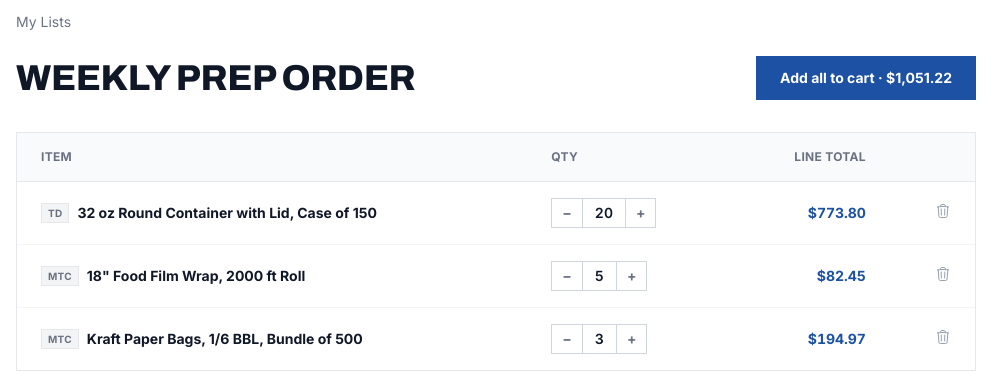
Test: ListDetailPage — known list › increases and decreases an item's quantity independently of the others
This screenshot has width=993, height=388.
Click the button named "Increase" at x=641, y=213, box [626,199,656,227]
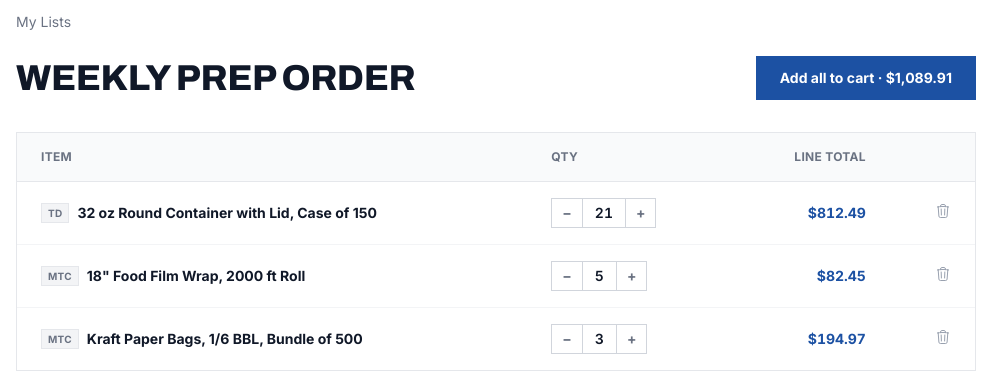
Check: the text "21" is shown, box [582,199,626,227]
